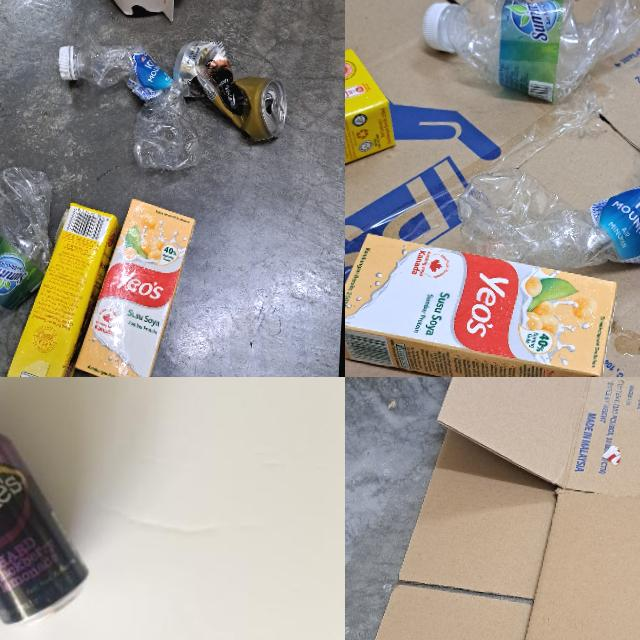aba de lata: (272, 100, 285, 124)
caixinha: (345, 231, 617, 377), (75, 195, 198, 377), (3, 199, 121, 377), (345, 45, 399, 181)
garrafa plástica: (455, 104, 640, 271), (421, 0, 640, 109), (70, 39, 206, 172), (0, 163, 58, 331)
lata: (0, 415, 96, 634), (170, 38, 290, 142)
papelão: (345, 0, 640, 377), (345, 377, 640, 640)
tampa plástica: (423, 0, 466, 57), (56, 46, 74, 82)
